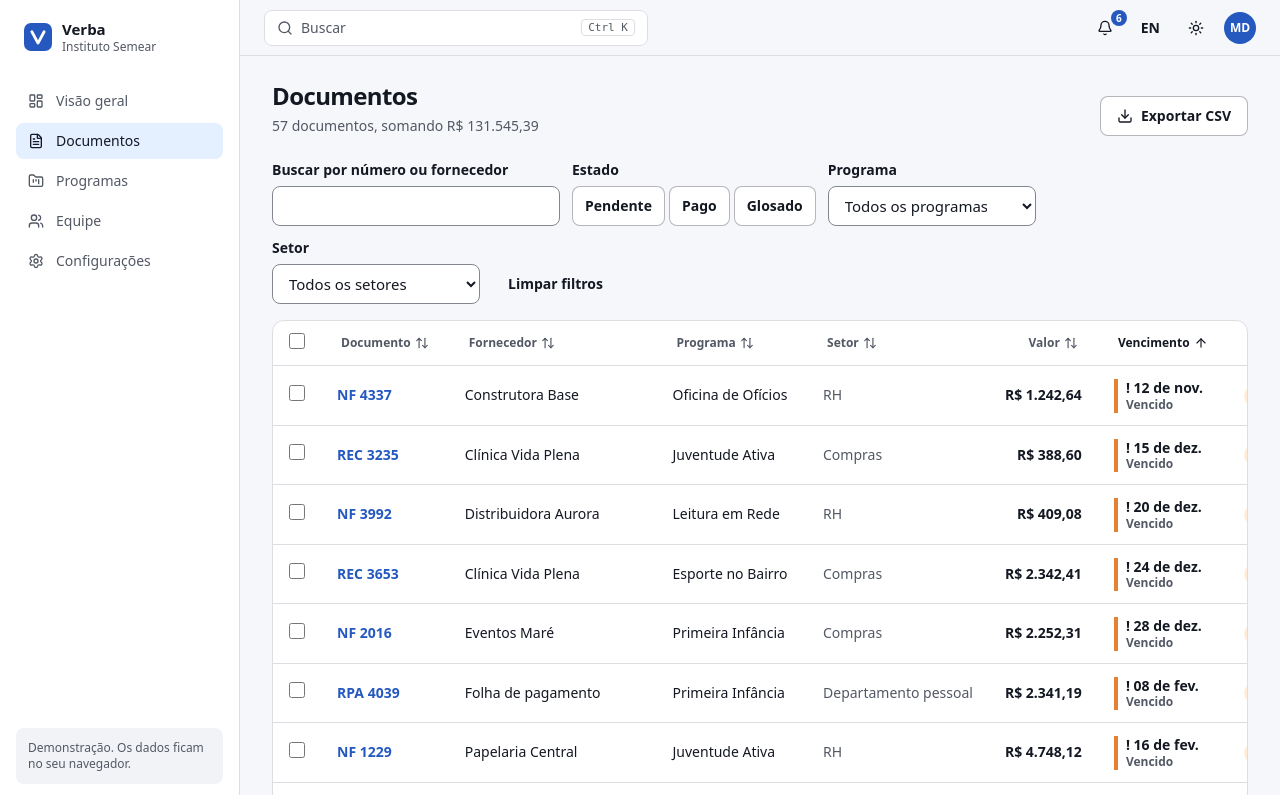
Test: documents › approves selected documents after confirmation
Step 1. Click the checkbox named "Selecionar NF 4337" → (297, 393), box [289,385,305,401]
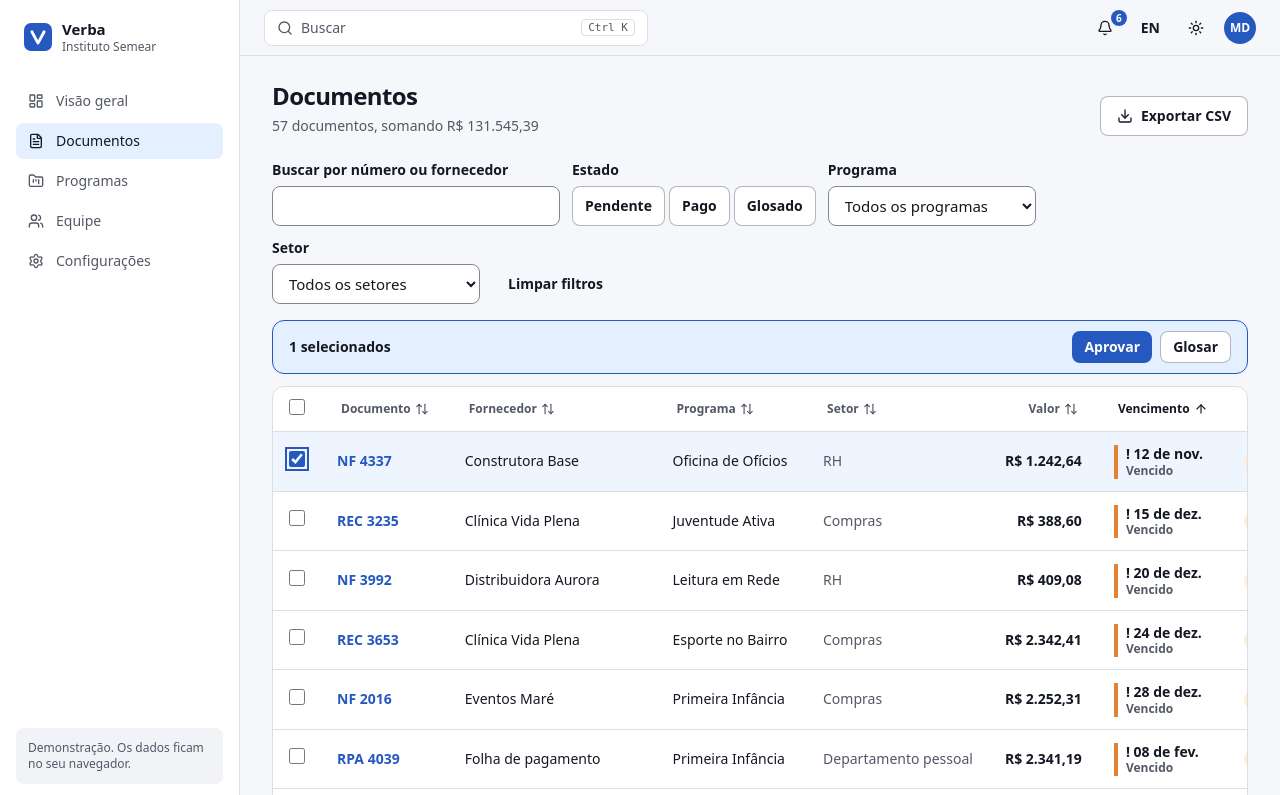
Step 2. Click the button "Aprovar" → (1112, 347), box [1072,331,1152,363]
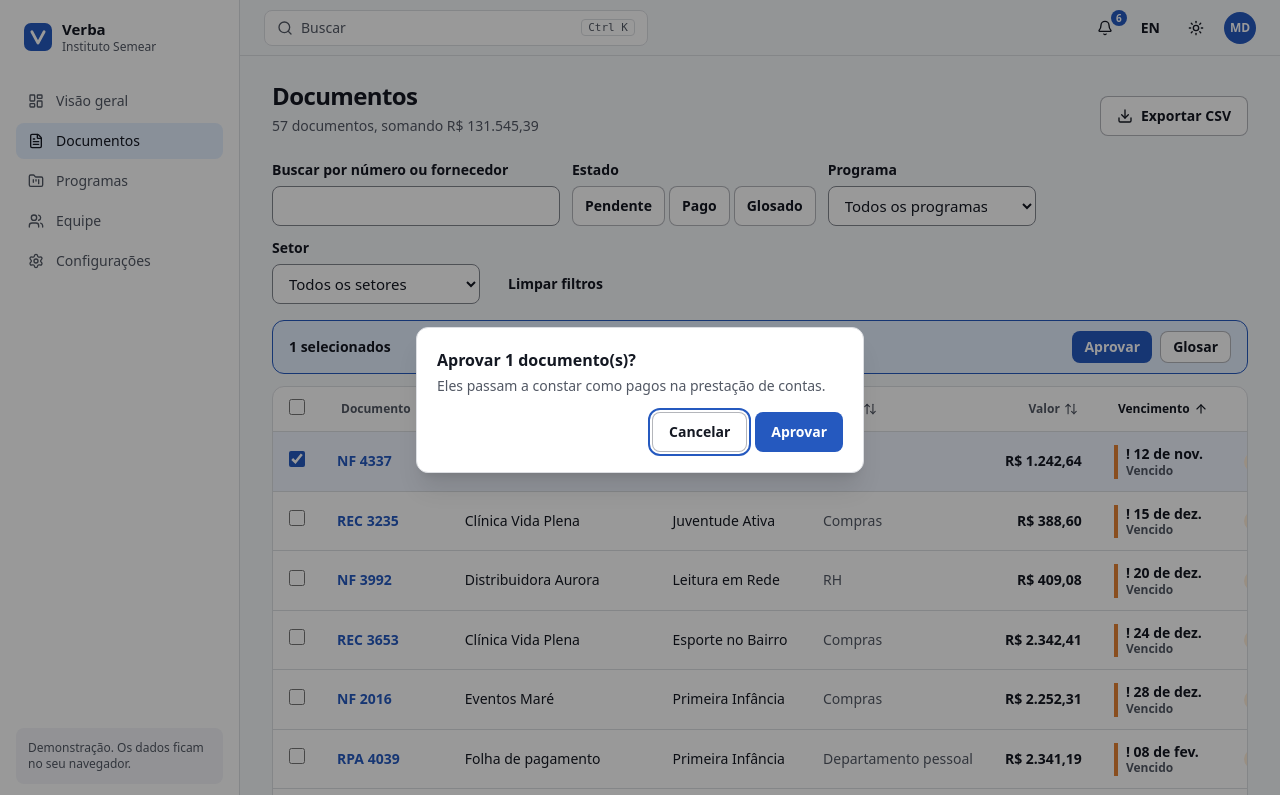
Step 3. Click the button "Aprovar" → (799, 432), box [755,412,843,452]
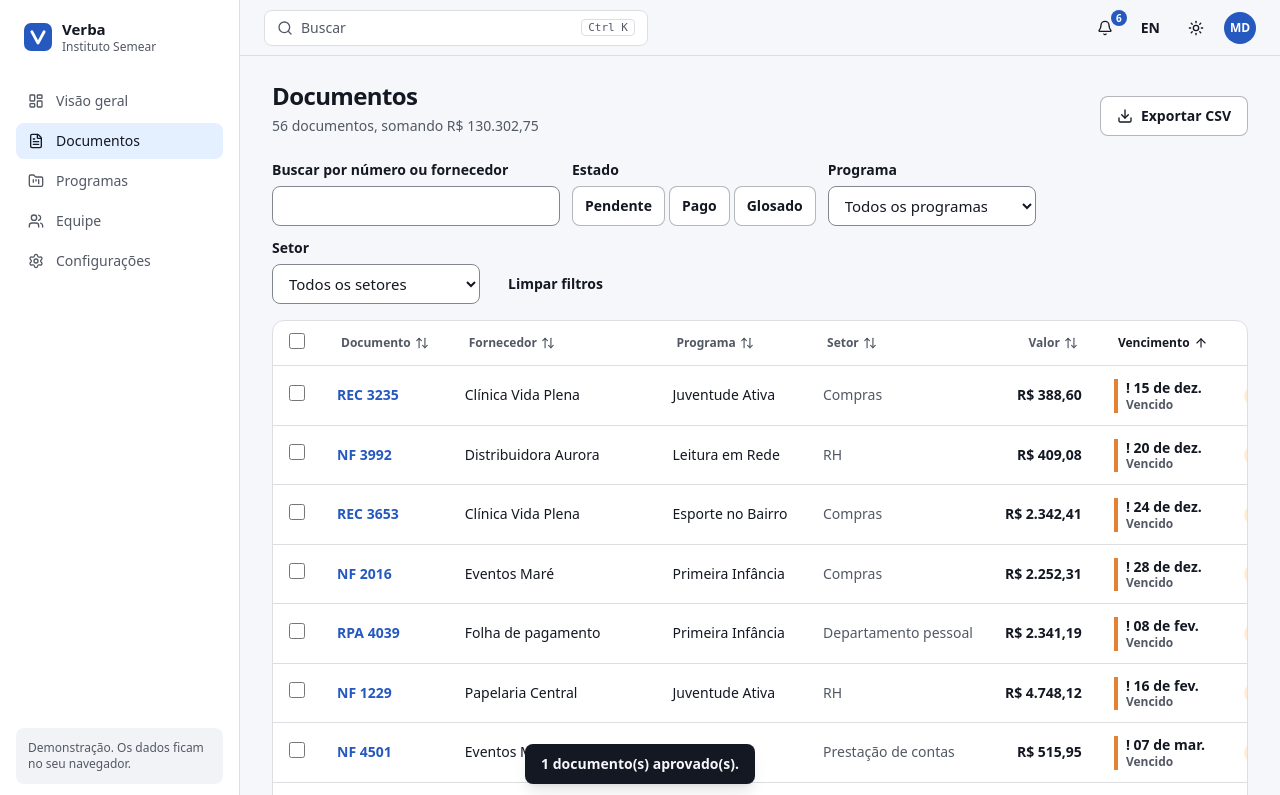
Expected: the text "1 documento(s) aprovado(s)." is shown, [525,744,755,784]
